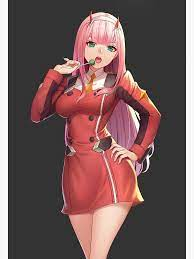zeroTwo: (71, 10, 132, 70)
